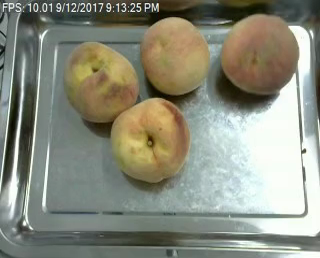Peach: (111, 97, 191, 182), (221, 13, 298, 95), (64, 41, 139, 122), (141, 16, 209, 95)
